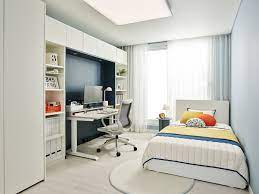Bed: (141, 96, 255, 194)
Chair: (97, 99, 139, 159)
Table: (66, 105, 120, 162)
curtain: (165, 41, 234, 100), (128, 46, 154, 129)
